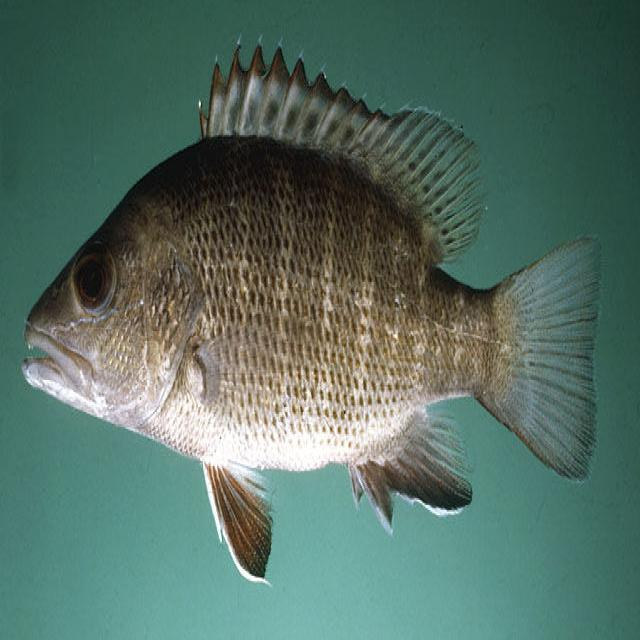ikan: (20, 34, 603, 586)
